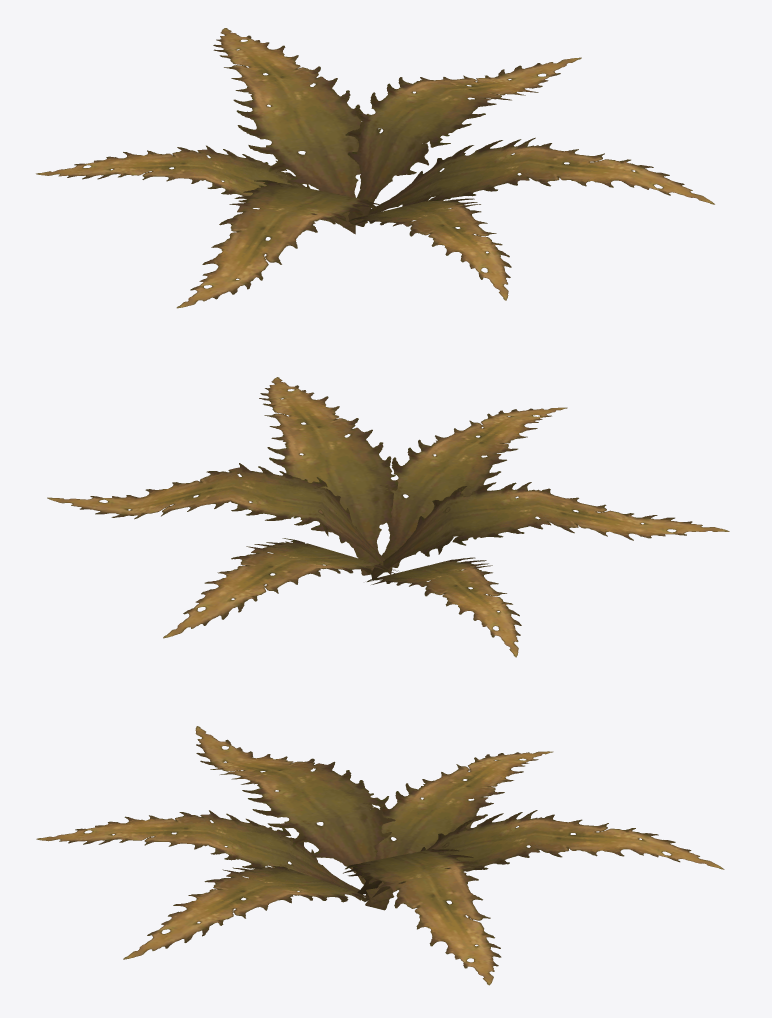
File: yw_shamo_zhibei_002.FBX
3 renders of one model, top to bottom at view 1: azimuth 30°, elevation 25°; view 2: azimuth 150°, elevation 25°; view 3: azimuth 270°, elevation 25°, orthographic. The views are drawn at different scales.
Parts seen in each view (by area): view 1: yw_shamo_zhibei_002; view 2: yw_shamo_zhibei_002; view 3: yw_shamo_zhibei_002.
Part boxes in pixels (x1=…): yw_shamo_zhibei_002: x1=36, y1=28, x2=714, y2=308; yw_shamo_zhibei_002: x1=47, y1=377, x2=729, y2=657; yw_shamo_zhibei_002: x1=36, y1=726, x2=724, y2=985.
Bounding box in the file's own units: 79.08 × 81.58 × 11.17.
